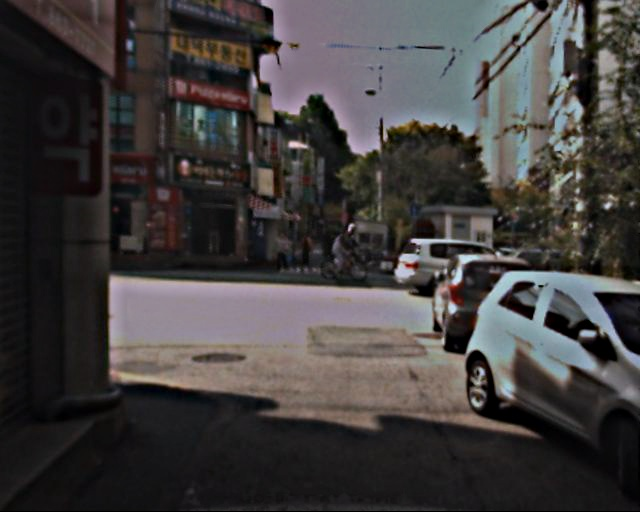person: (322, 227, 366, 278), (274, 230, 291, 271), (299, 232, 315, 270)
